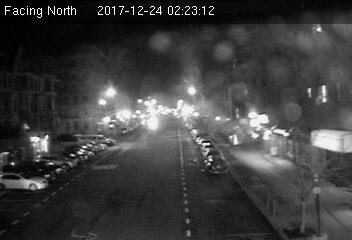car: (206, 155, 227, 176)
